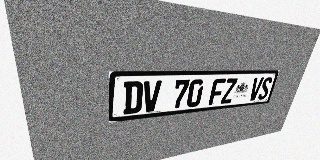0: (186, 79, 204, 108)
7: (171, 79, 190, 109)
D: (123, 81, 143, 115)
F: (208, 78, 226, 105)
S: (257, 77, 273, 100)
V: (142, 80, 162, 112), (248, 77, 264, 101)
Z: (220, 78, 238, 104)
